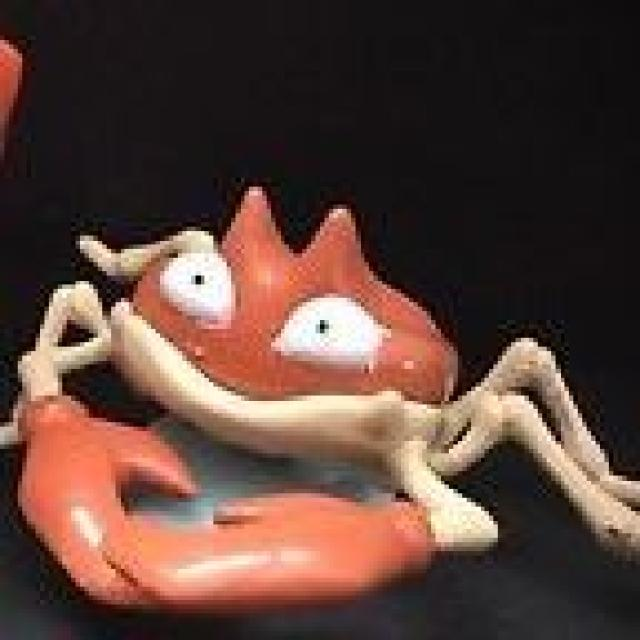Krabby: (0, 172, 486, 633)
